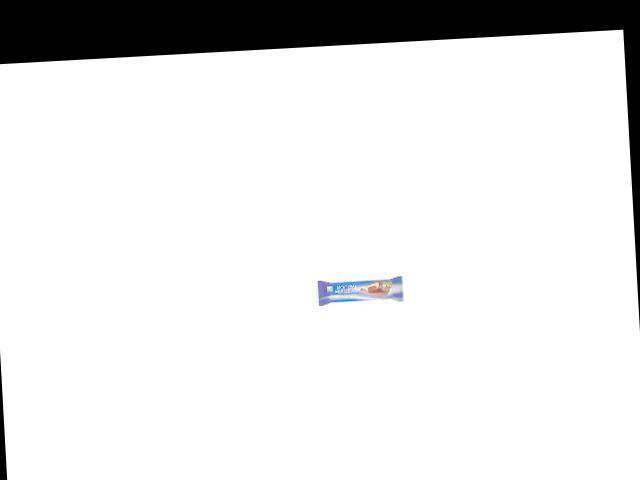chocolate: (314, 267, 414, 307)
